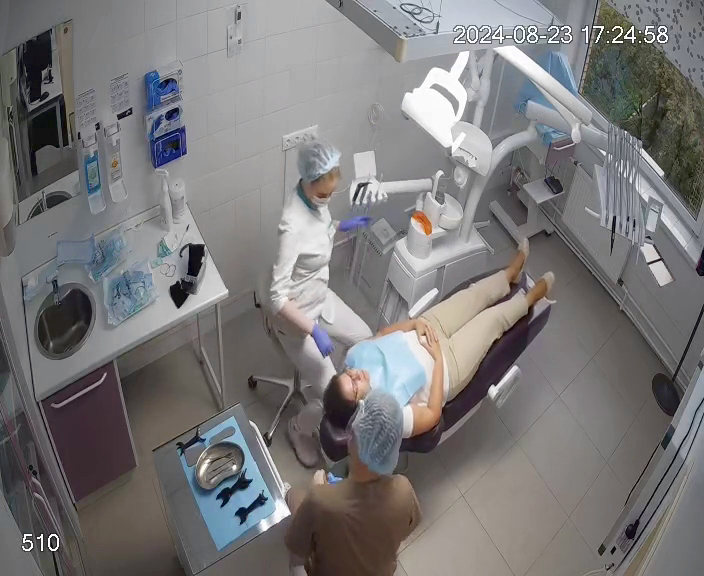Patient: (320, 235, 554, 462)
